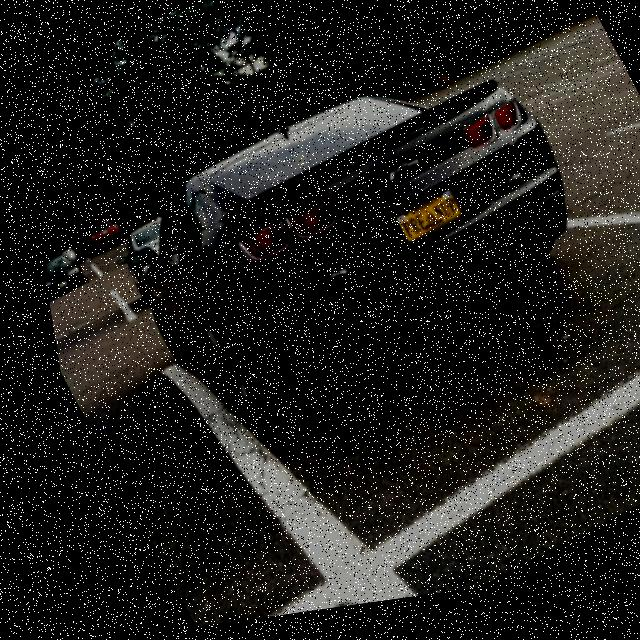license_plate: (380, 200, 458, 254)
